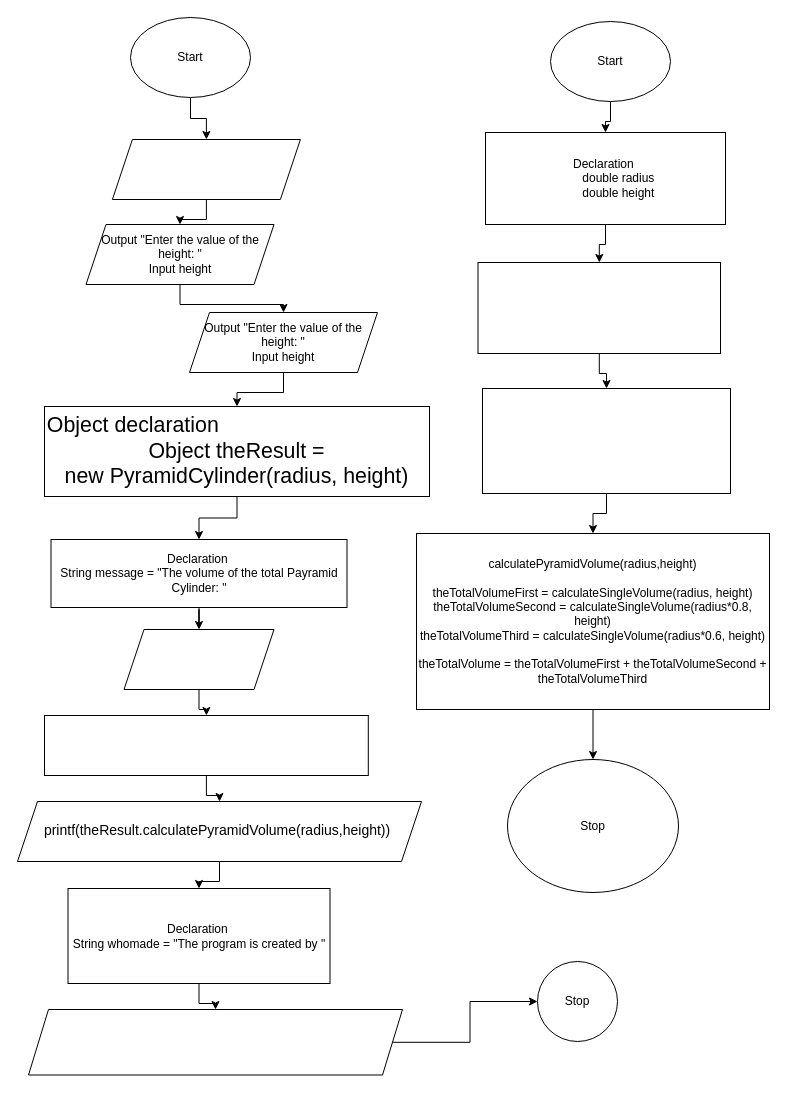
Image size: 787x1093. Some labels were removed from this diagram. Here are the shapes that lost their labels. From the top down, the centre of each, then its label:
point (205, 169): Output "Enter the value of the radius: " Input radius
point (598, 308): getRadius() setRadius( newRadius ) getHeight() setHeight( newHeight )
point (606, 441): calculateSingleVolume(radius,height)
point (198, 659): printf(message)
point (206, 745): Object Calls Method theResult.calculatePyramidVolume(radius,height)
point (215, 1041): printf(whomade + "Vasukumar Patel")
